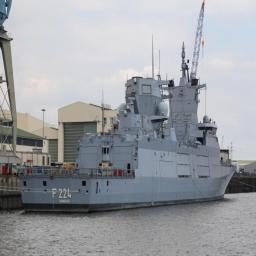Fragata: (16, 40, 238, 217)
